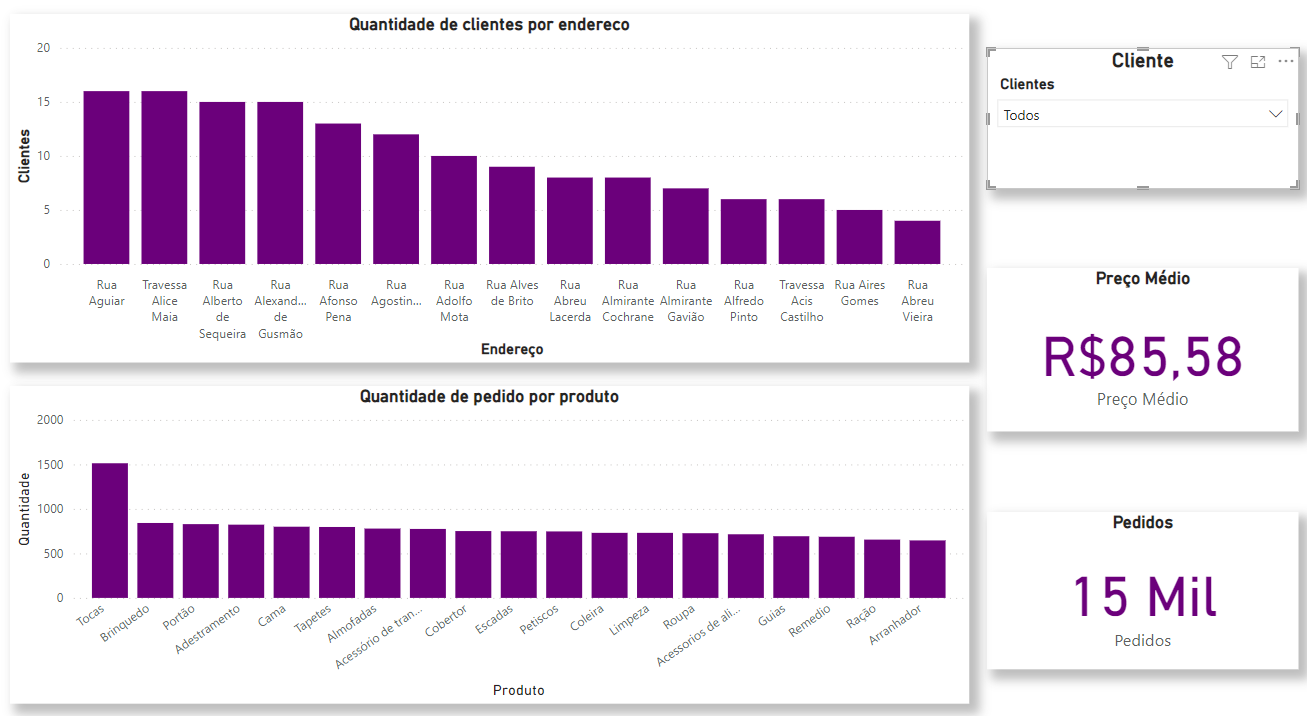

Layout of this report page (visuals, bound fields, positions):
{"tool":"powerbi","page":{"name":"Cliente","canvas":[1280,720],"ordinal":1},"visuals":[{"type":"clusteredColumnChart","title":"Quantidade de clientes por endereco","fields":{"Category":["public dim_cliente.endereco"],"Y":["_Calculo.Quant de clientes"]},"box":[13.6,32.1,932.8,339.5],"z":0},{"type":"slicer","title":"Cliente","fields":{"Values":["public dim_cliente.nm_cliente"]},"box":[963.9,65.2,303.5,137.1],"z":1000},{"type":"card","title":"Preço Médio","fields":{"Values":["_Calculo.Preço Médio"]},"box":[963.9,279.1,303.5,158.5],"z":2000},{"type":"card","title":"Pedidos","fields":{"Values":["Sum(public ft_pedidos.md_qtd)"]},"box":[963.9,516.5,303.5,152.7],"z":3000},{"type":"clusteredColumnChart","title":"Quantidade de pedido por produto","fields":{"Y":["Sum(public ft_pedidos.md_qtd)"],"Category":["public dim_produtos.tipo_produto"]},"box":[13.6,393.9,932.8,309.3],"z":4000}]}

Visuals, with their boxes in screenshot pixels (x1, y1, x2, y2), scaled from the page's 1280x720 canvas onto the 1307x716 screenshot:
"Quantidade de clientes por endereco" clusteredColumnChart: 14,32,966,370
"Cliente" slicer: 984,65,1294,201
"Preço Médio" card: 984,278,1294,435
"Pedidos" card: 984,514,1294,665
"Quantidade de pedido por produto" clusteredColumnChart: 14,392,966,699
